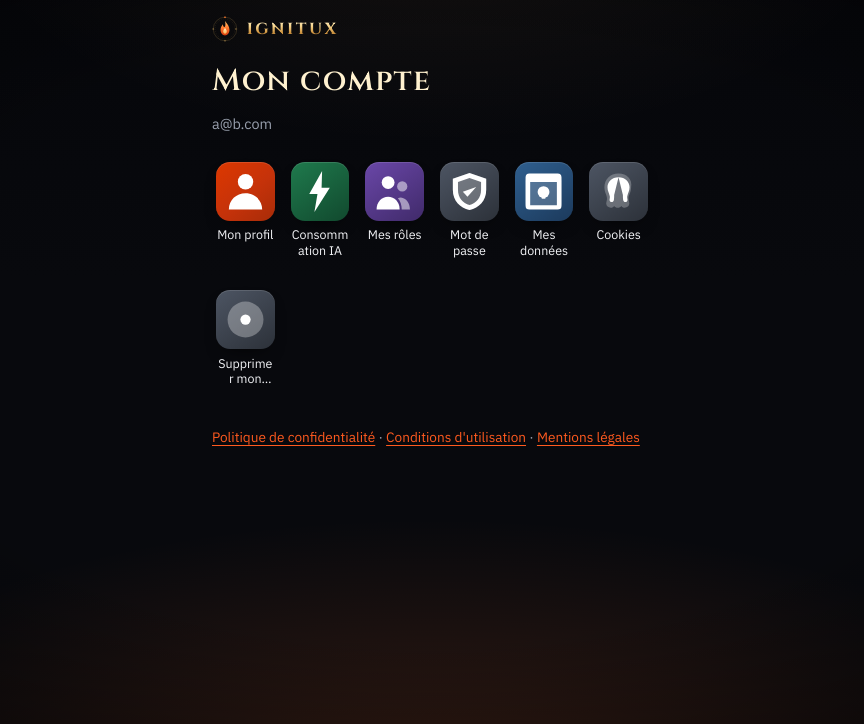
Test: AccountPage › suppression du compte › ne propose pas de supprimer avant d'avoir montré ce qui disparaît
Click the button "Supprimer mon compte": (245, 339) [216,286,275,391]
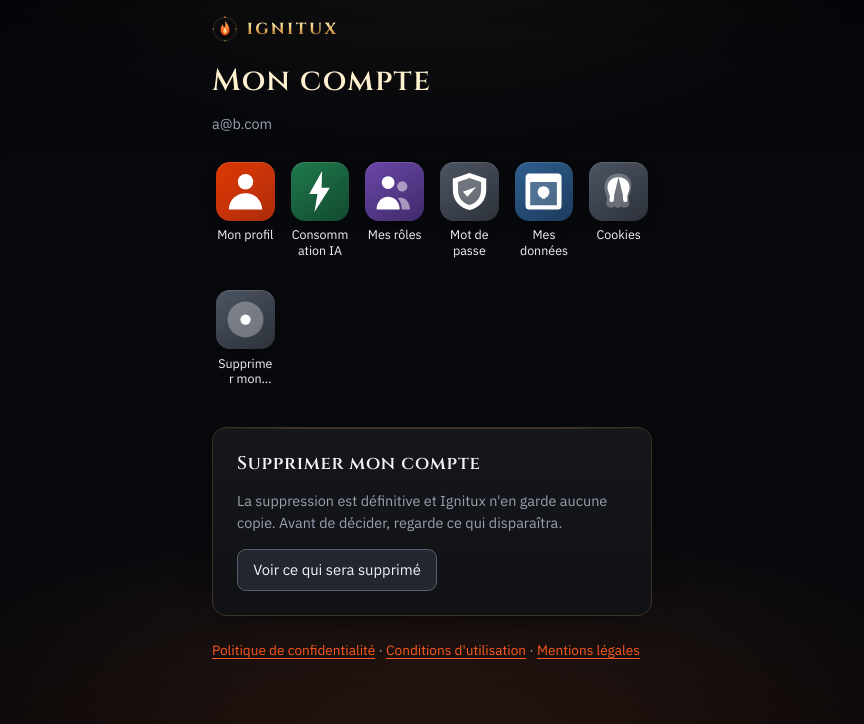
Check: the button "Voir ce qui sera supprimé" is shown, box [237,549,437,591]
